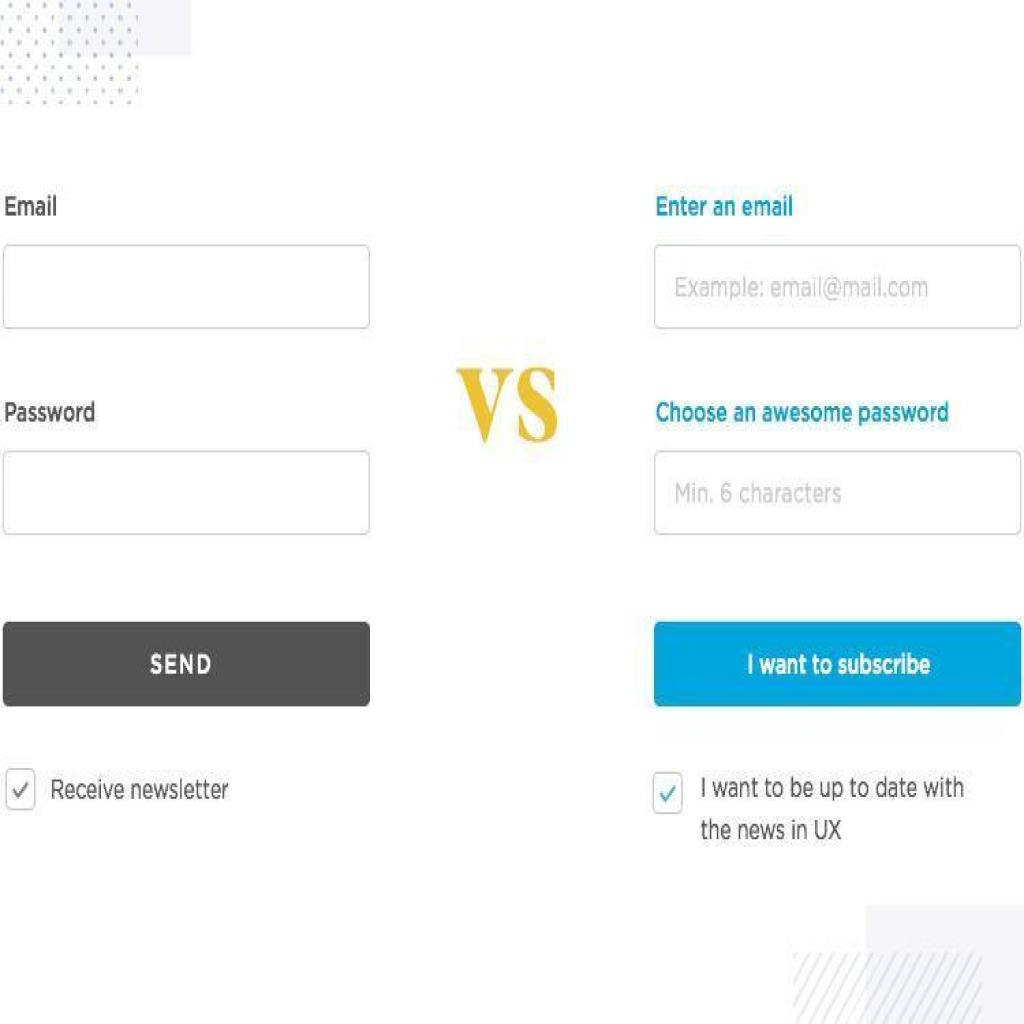button: (651, 618, 1024, 710), (0, 619, 371, 706)
checkbox: (651, 770, 684, 818), (4, 766, 36, 810)
input: (651, 244, 1024, 335), (654, 452, 1024, 537), (4, 248, 370, 329), (4, 454, 370, 533)
label: (696, 770, 966, 849), (654, 397, 952, 429), (50, 774, 234, 806), (652, 189, 802, 225), (4, 396, 96, 428), (4, 190, 57, 220)
